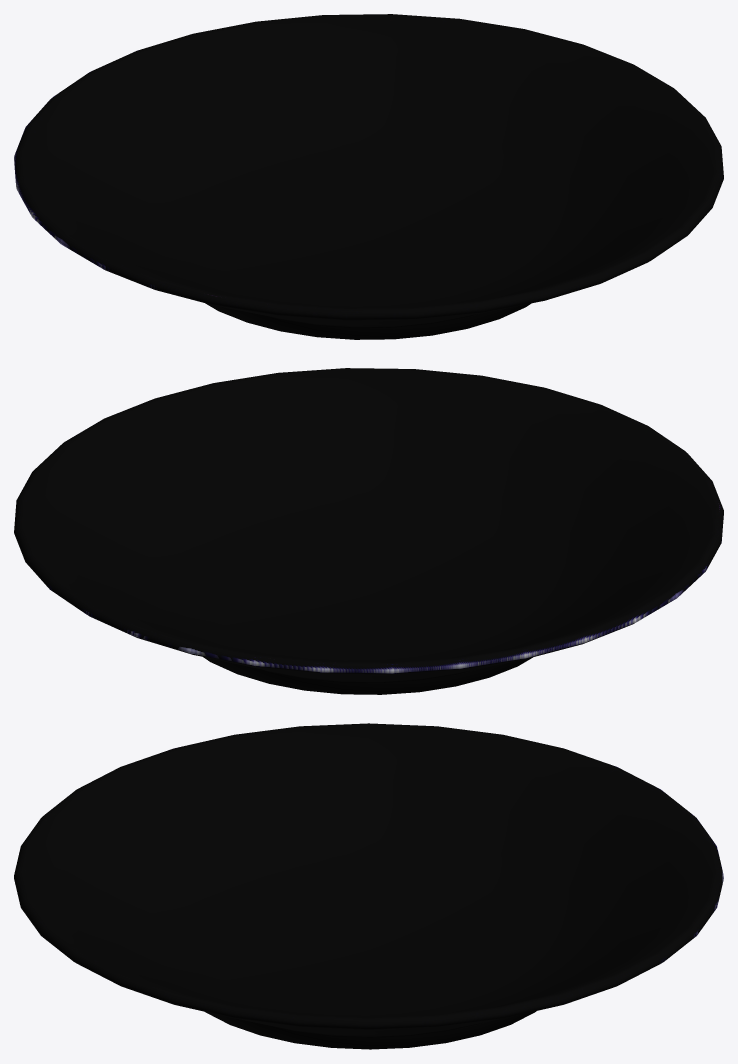
File: piatto_nero.glb
3 renders of one model, top to bottom at view 1: azimuth 30°, elevation 25°; view 2: azimuth 150°, elevation 25°; view 3: azimuth 270°, elevation 25°, orthographic.
Parts seen in each view (by area): view 1: Mesh_0; view 2: Mesh_0; view 3: Mesh_0.
Boxes of the visible parts, left/top/right/bottom form: Mesh_0: left=14, top=14, right=723, bottom=339; Mesh_0: left=14, top=368, right=723, bottom=694; Mesh_0: left=14, top=723, right=723, bottom=1049.
Bounding box in the file's own units: 0.3705 × 0.0543 × 0.3705.
Materials: 1 (1 with a texture image).
